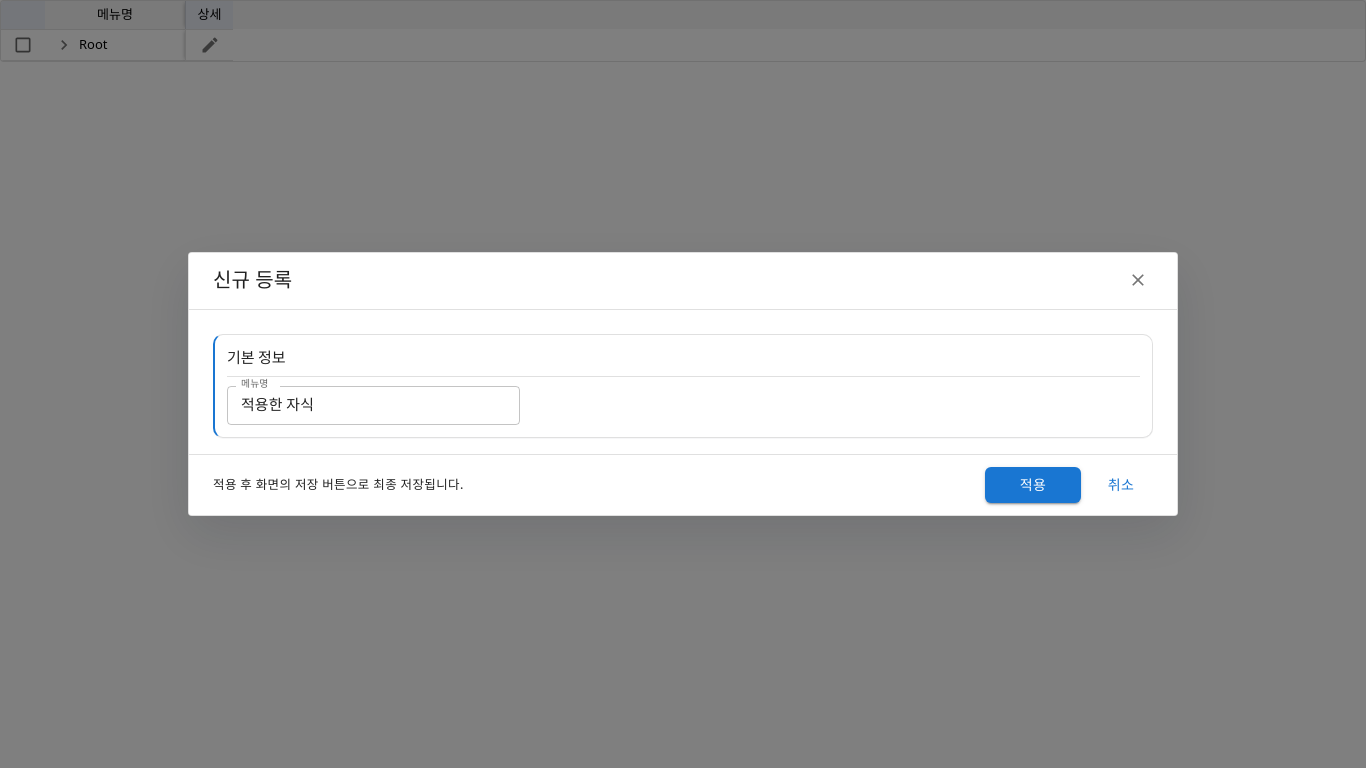
it: F1Tree row form modal › expands the parent only after addChildRow is applied and preserves the parent ID
Click the button "적용" at (1033,485), box [985,467,1081,503]
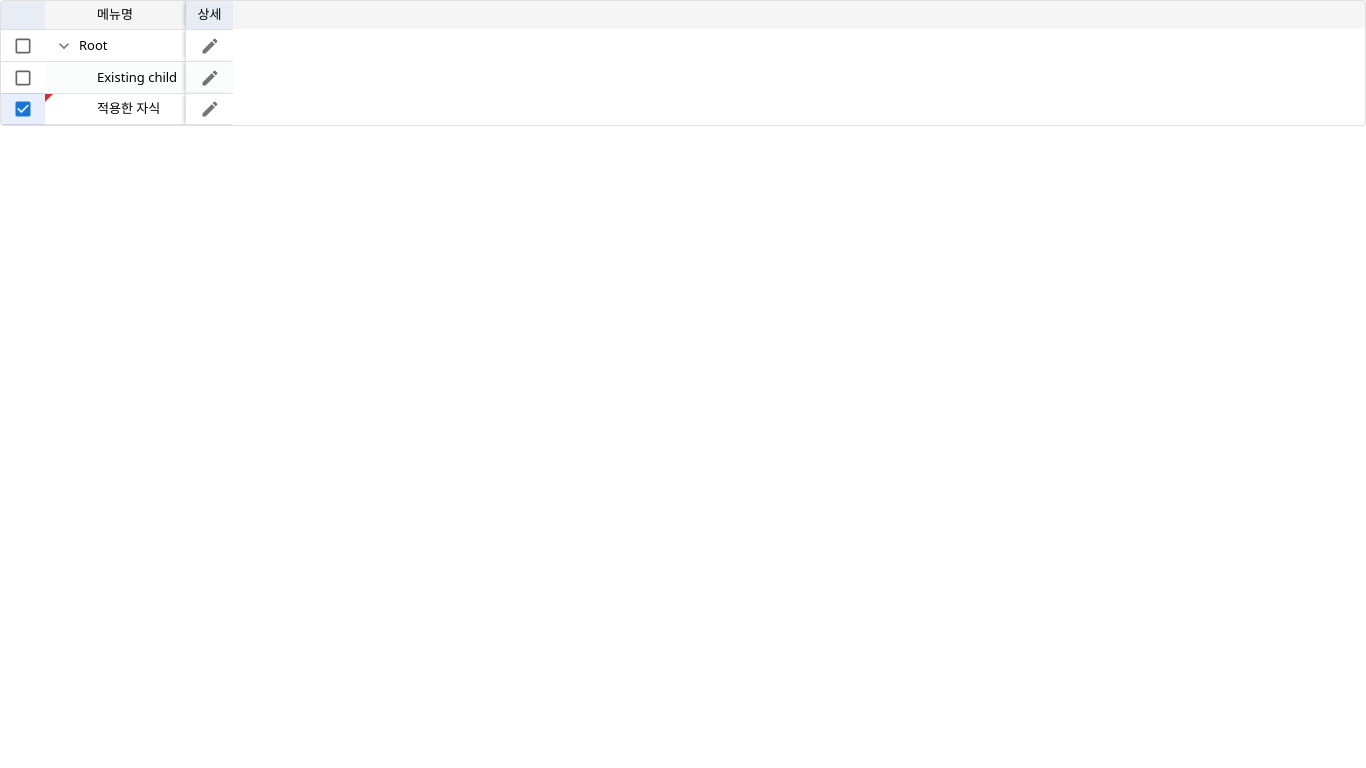
Now the cell "적용한 자식" is shown, box [45,93,185,125]
